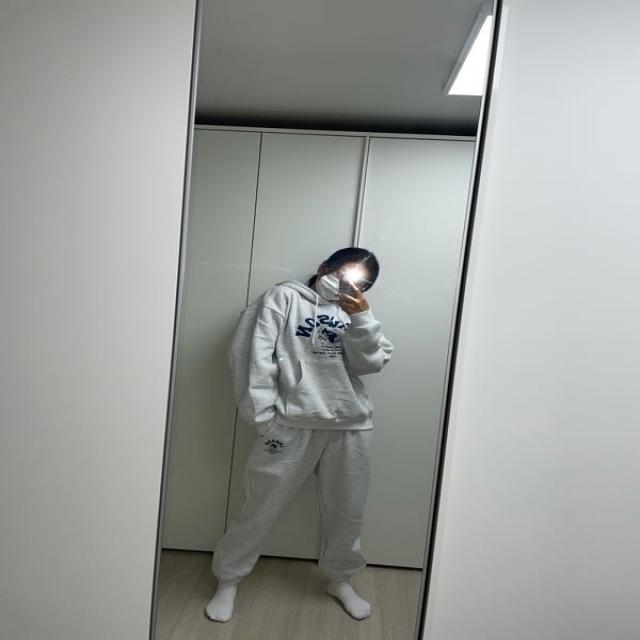hoodies: (225, 280, 391, 426)
trainingpants: (210, 408, 371, 583)
